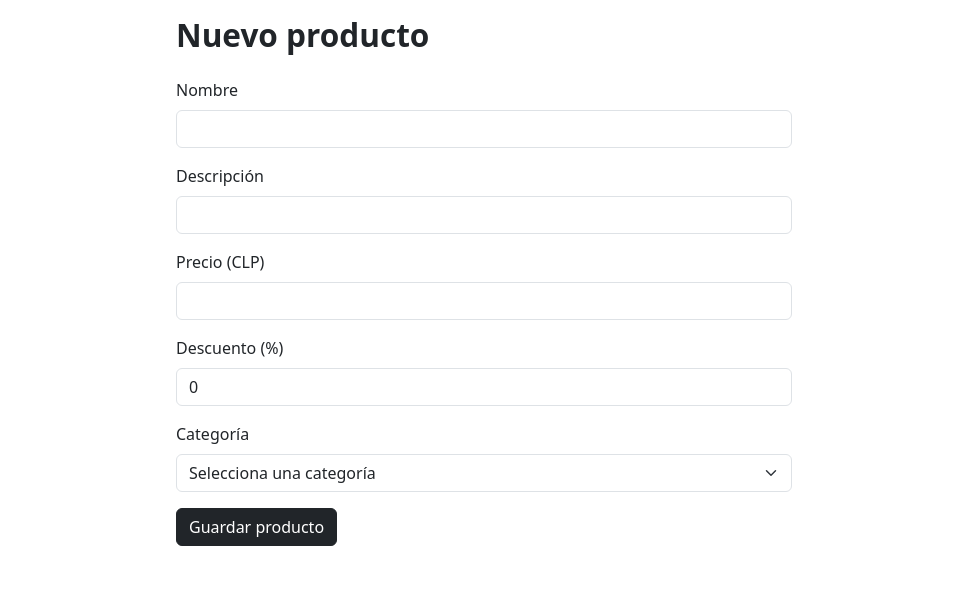
it: CRUD de productos desde el panel › crea un producto y lo muestra en el panel
Type "Gorra negra" into the field labelled "Nombre". click: (484, 129)
box: x1=176 y1=110 x2=792 y2=148
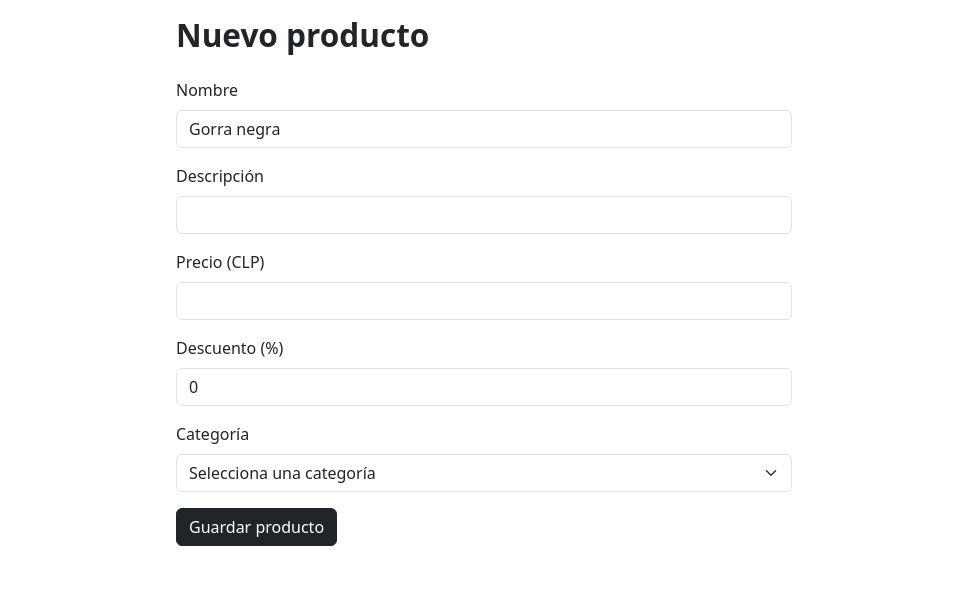
Type "7990" into the number field labelled "Precio (CLP)". click: (484, 301)
box: x1=176 y1=282 x2=792 y2=320
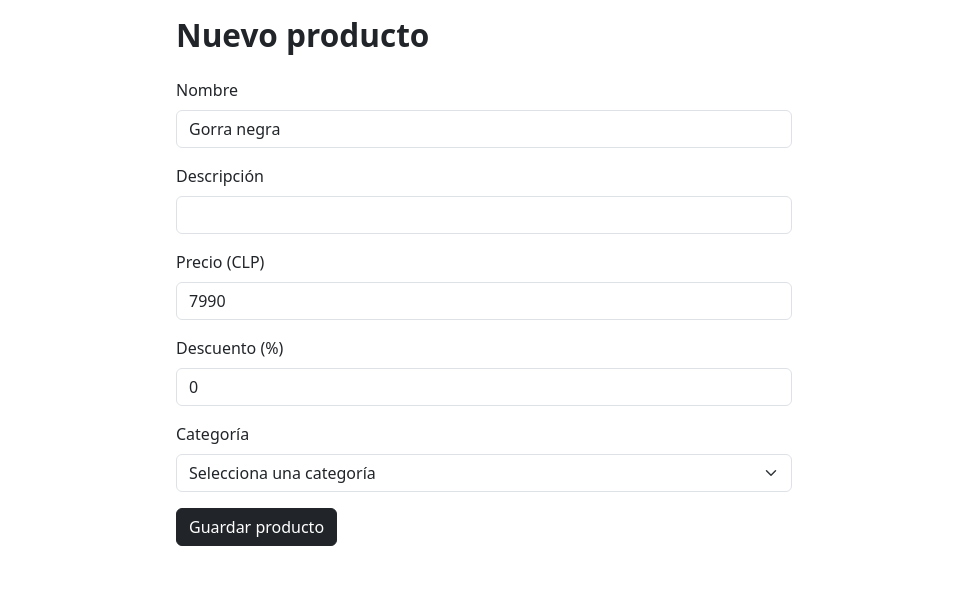
Select "Accesorios" in the dropdown labelled "Categoría". click: (484, 473)
box: x1=176 y1=454 x2=792 y2=492
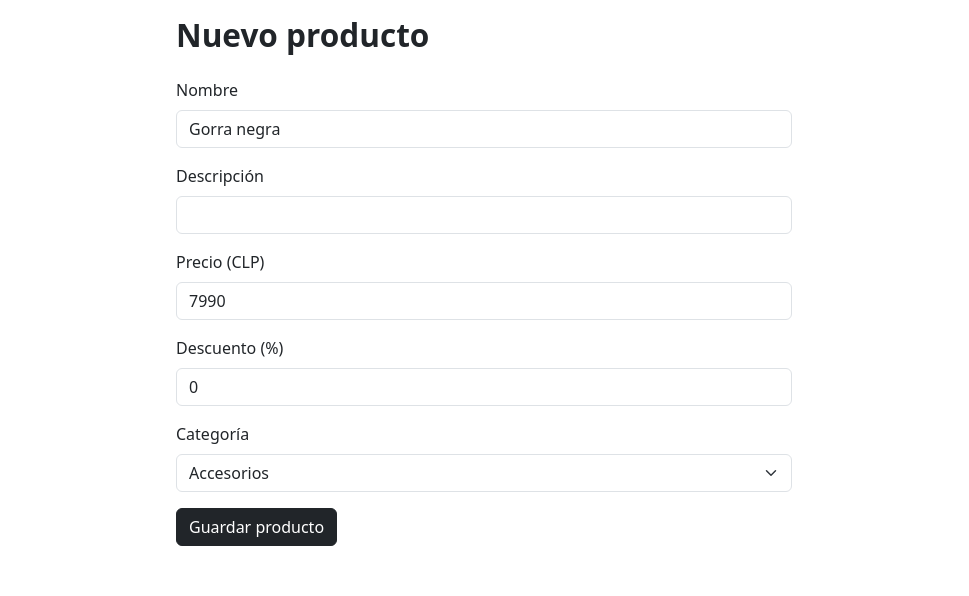
Click the button "Guardar producto". click: (257, 527)
box: x1=176 y1=508 x2=337 y2=546
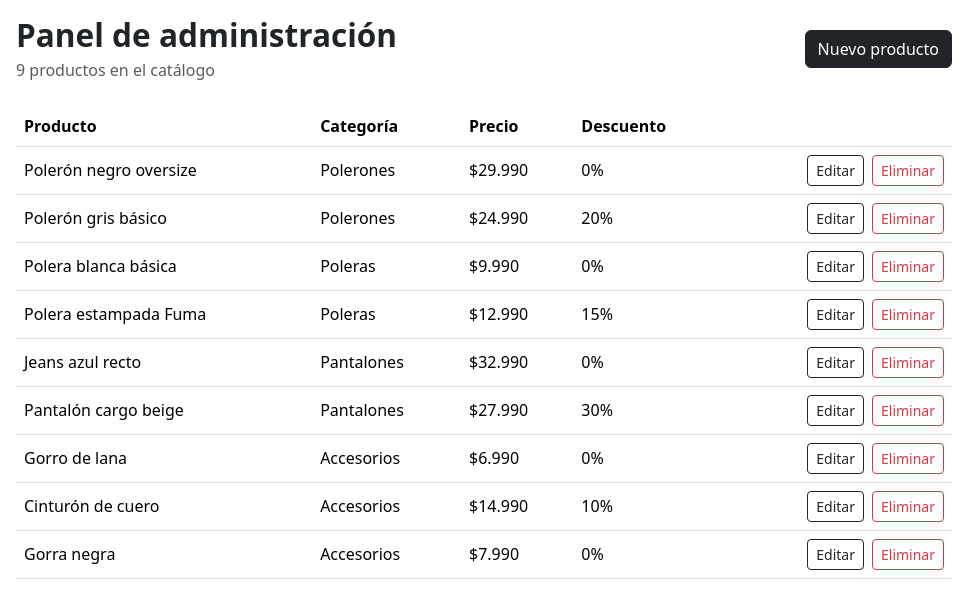
Check: the heading "Panel de administración" is shown, box x1=16 y1=16 x2=397 y2=54
Check: the text "Gorra negra" is shown, box x1=16 y1=530 x2=312 y2=578
